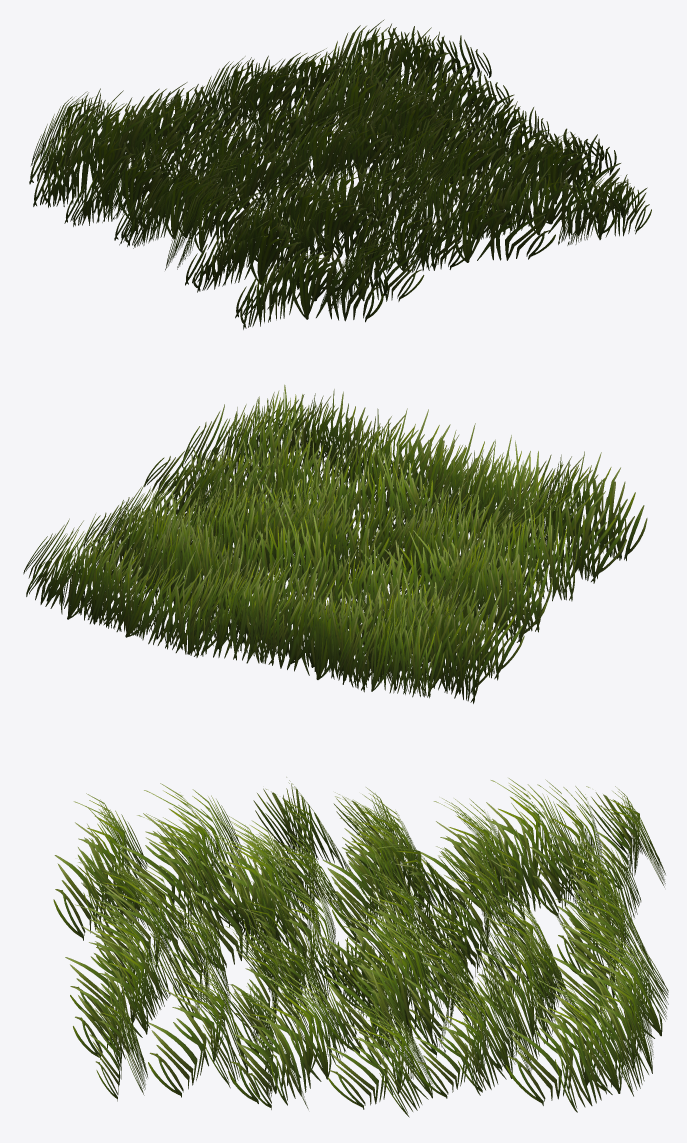
File: grassKit_front.fbx
The picture shows the model from 3 angles, top to bottom: view 1: azimuth 30°, elevation 25°; view 2: azimuth 150°, elevation 25°; view 3: azimuth 270°, elevation 25°; orthographic projection. The views are drawn at different scales.
Visible parts, largest first — view 1: grassKit_front; view 2: grassKit_front; view 3: grassKit_front.
Part boxes in pixels (<box>): grassKit_front: <box>29,19,651,329</box>; grassKit_front: <box>23,384,647,703</box>; grassKit_front: <box>53,777,668,1117</box>.
Size of the model in its own units: 4.91 by 1.22 by 4.59.
